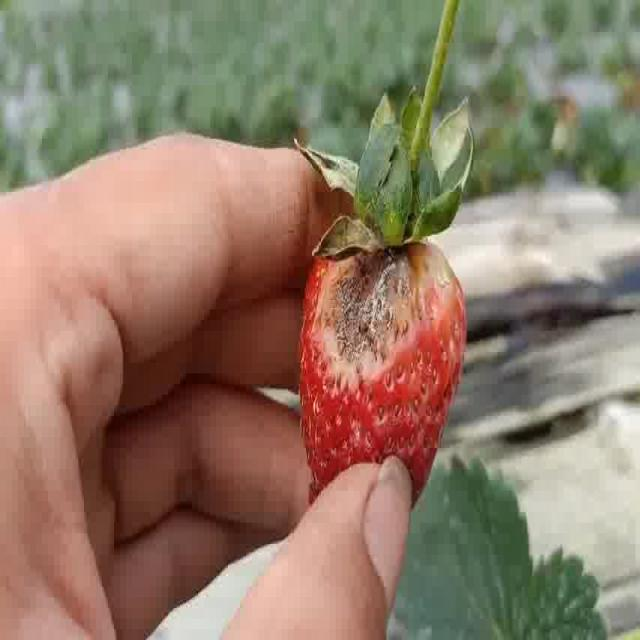Mancha negra Antracnosis: (294, 228, 468, 490)
